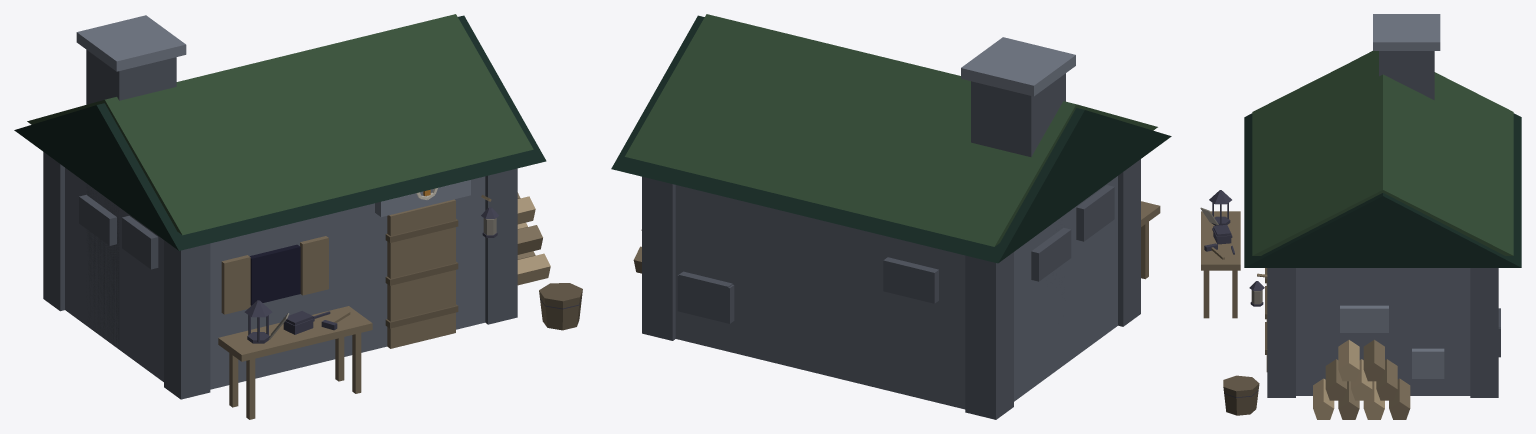
File: keeper_lodge.glb
3 views of the same model, side by side, from view 1: azimuth 30°, elevation 25°; view 2: azimuth 150°, elevation 25°; view 3: azimuth 270°, elevation 25° (orthographic). The views are drawn at different scales.
Parts seen in each view (by area): view 1: moss_d45, slate_d12, slate_d25, driftwood_d40, pine_d55, slate_l5, driftwood_d50, ink, ink_l15, driftwood_d20; view 2: moss_d45, slate_d12, slate_d25, pine_d55, slate_l5, driftwood_d40; view 3: moss_d45, slate_d12, pine_d55, slate_d25, driftwood_d40, slate_l5, driftwood_d20, driftwood_d50, ink_l15.
Part boxes in pixels (box(x1,y1,x2,y2)): moss_d45: box(27, 14, 533, 235); slate_d12: box(65, 168, 485, 389); slate_d25: box(43, 50, 517, 399); driftwood_d40: box(218, 192, 542, 419); pine_d55: box(14, 15, 546, 250); slate_l5: box(76, 15, 470, 217); driftwood_d50: box(385, 219, 582, 330); ink: box(249, 244, 300, 305); ink_l15: box(244, 207, 581, 343); driftwood_d20: box(517, 196, 550, 285); moss_d45: box(625, 14, 1157, 246); slate_d12: box(675, 176, 1117, 409); slate_d25: box(642, 73, 1140, 419); pine_d55: box(611, 15, 1171, 263); slate_l5: box(961, 37, 1075, 96); driftwood_d40: box(633, 201, 1160, 279); moss_d45: box(1252, 51, 1513, 255); slate_d12: box(1296, 268, 1470, 395); pine_d55: box(1244, 51, 1521, 267); slate_d25: box(1267, 51, 1500, 397); driftwood_d40: box(1201, 211, 1410, 419); slate_l5: box(1340, 14, 1444, 378); driftwood_d20: box(1313, 340, 1384, 419); driftwood_d50: box(1223, 268, 1267, 415); ink_l15: box(1204, 190, 1264, 397).
Size of the model in its own units: 5.05 by 3.42 by 4.06.
